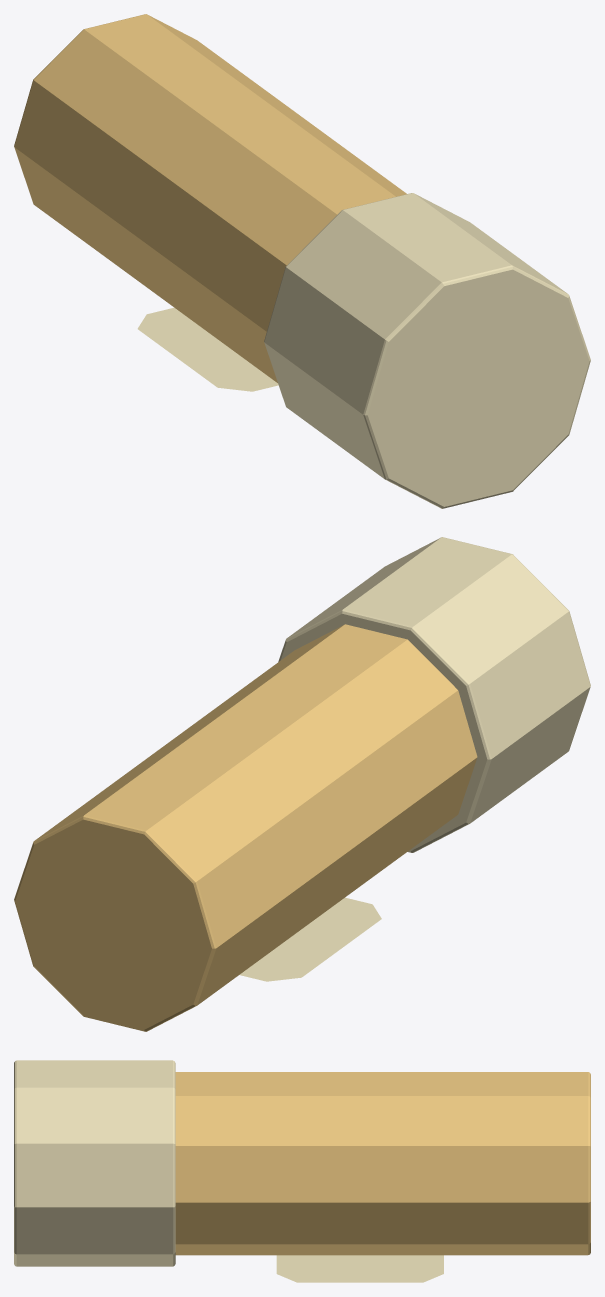
The model's file is glue_stick.glb.
The picture shows the model from 3 angles, top to bottom: view 1: azimuth 30°, elevation 25°; view 2: azimuth 150°, elevation 25°; view 3: azimuth 270°, elevation 25°; orthographic projection. The views are drawn at different scales.
Parts seen in each view (by area): view 1: glue_stick; view 2: glue_stick; view 3: glue_stick.
Boxes of the visible parts, box(x1,y1,x2,y2) form: glue_stick: box(14, 14, 590, 508); glue_stick: box(14, 537, 590, 1031); glue_stick: box(14, 1060, 590, 1282).
Bounding box in the file's own units: 0.036 × 0.0342 × 0.1.
